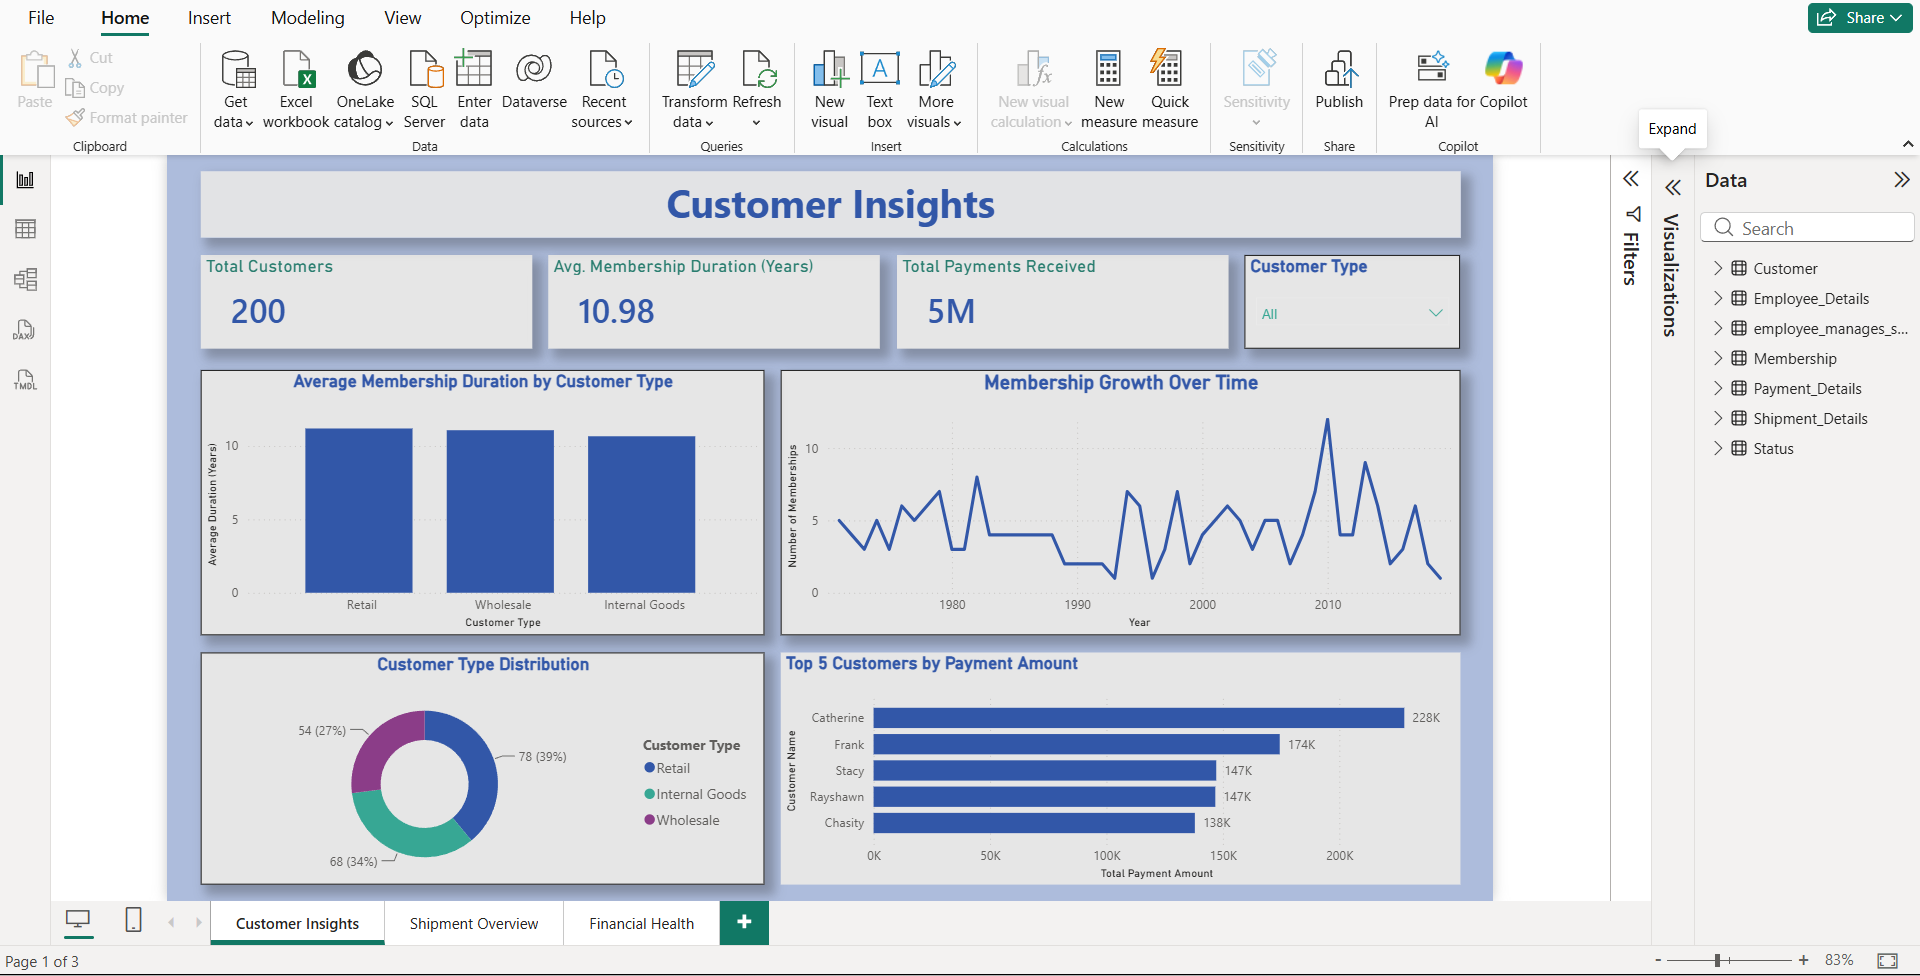

This screenshot's page, from the dashboard's own definition file:
{"tool":"powerbi","page":{"name":"Customer Insights","canvas":[1280,720],"ordinal":0},"visuals":[{"type":"cardVisual","title":"Total Customers","fields":{"Data":["Customer.Total Customers"]},"box":[32,96,320,90],"z":0},{"type":"donutChart","title":"Customer Type Distribution","fields":{"Category":["Customer.C_TYPE"],"Y":["CountNonNull(Customer.C_ID)"]},"box":[32,480,544,224],"z":1000},{"type":"cardVisual","title":"Avg. Membership Duration (Years)","fields":{"Data":["Membership.Membership Duration (Years)"]},"box":[368,96,320,90],"z":2000},{"type":"cardVisual","title":"Total Payments Received","fields":{"Data":["Payment_Details.Total Payments Received"]},"box":[704,96,320,90],"z":3000},{"type":"slicer","title":"Customer Type","fields":{"Values":["Customer.C_TYPE"]},"box":[1040,96,208,90],"z":4000},{"type":"lineChart","title":"Membership Growth Over Time","fields":{"Y":["CountNonNull(Membership.M_ID)"],"Category":["Membership.Start_date.Variation.Date Hierarchy.Year"]},"box":[592,208,656,256],"z":5000},{"type":"textbox","box":[32,16,1216,64],"z":6000},{"type":"clusteredColumnChart","title":"Average Membership Duration by Customer Type","fields":{"Category":["Customer.C_TYPE"],"Y":["Membership.Membership Duration (Years)"]},"box":[32,208,544,256],"z":7000},{"type":"clusteredBarChart","title":"Top 5 Customers by Payment Amount","fields":{"Category":["Customer.C_NAME"],"Y":["Sum(Payment_Details.AMOUNT)"]},"box":[592,480,656,224],"z":8000}]}

Visuals, with their boxes on the page's 1280x720 design canvas (x1, y1, x2, y2). These are canvas units, not pixel positions in the 1920x976 screenshot, which may show the page scaled, cropped or inside an application window:
"Total Customers" cardVisual: 32:96:352:186
"Customer Type Distribution" donutChart: 32:480:576:704
"Avg. Membership Duration (Years)" cardVisual: 368:96:688:186
"Total Payments Received" cardVisual: 704:96:1024:186
"Customer Type" slicer: 1040:96:1248:186
"Membership Growth Over Time" lineChart: 592:208:1248:464
textbox: 32:16:1248:80
"Average Membership Duration by Customer Type" clusteredColumnChart: 32:208:576:464
"Top 5 Customers by Payment Amount" clusteredBarChart: 592:480:1248:704
